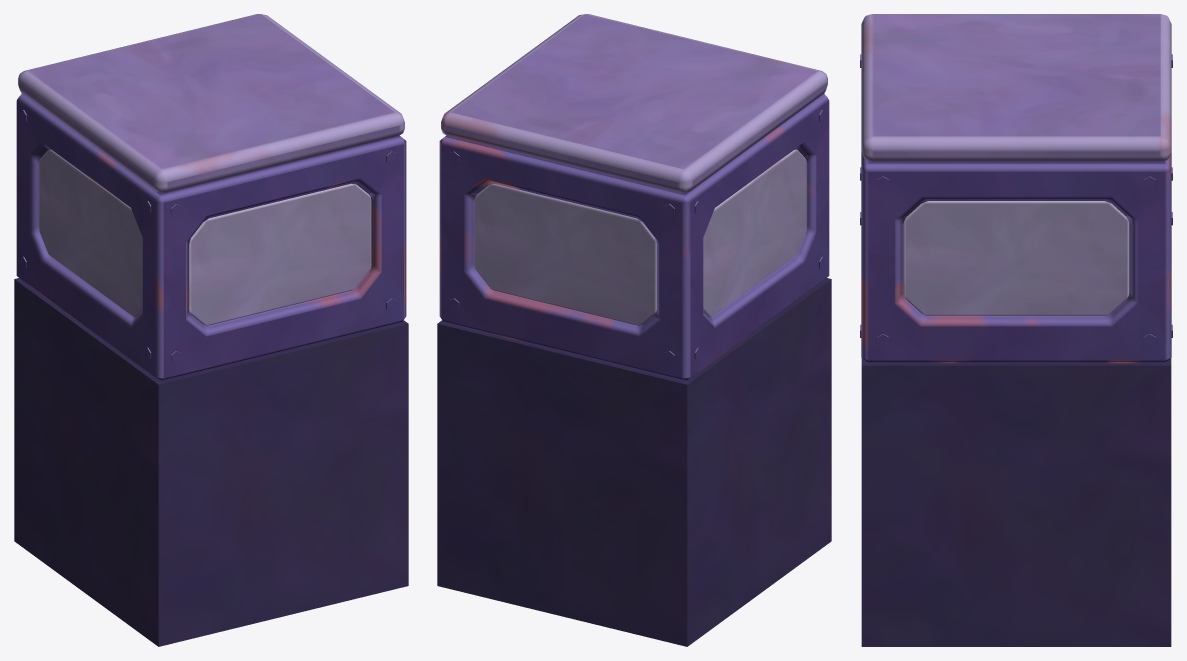
The model's file is bg_claude_block_wall.glb.
3 views of the same model, side by side, from view 1: azimuth 30°, elevation 25°; view 2: azimuth 150°, elevation 25°; view 3: azimuth 270°, elevation 25° (orthographic). The views are drawn at different scales.
Visible parts, largest first — view 1: wall; view 2: wall; view 3: wall.
Boxes of the visible parts, x1=… form: wall: x1=14, y1=14, x2=408, y2=646; wall: x1=437, y1=14, x2=831, y2=646; wall: x1=860, y1=14, x2=1172, y2=646.
Bounding box in the file's own units: 1.01 × 1.8 × 1.01.
Materials: 1 (1 with a texture image).
